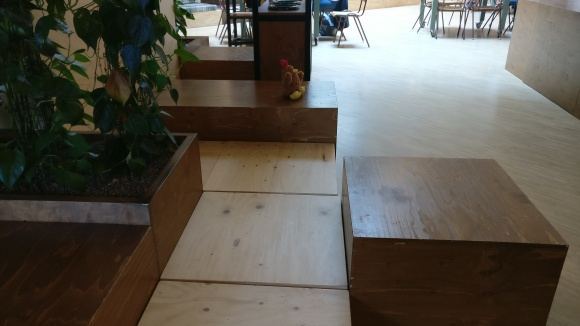chicken: (277, 57, 307, 102)
